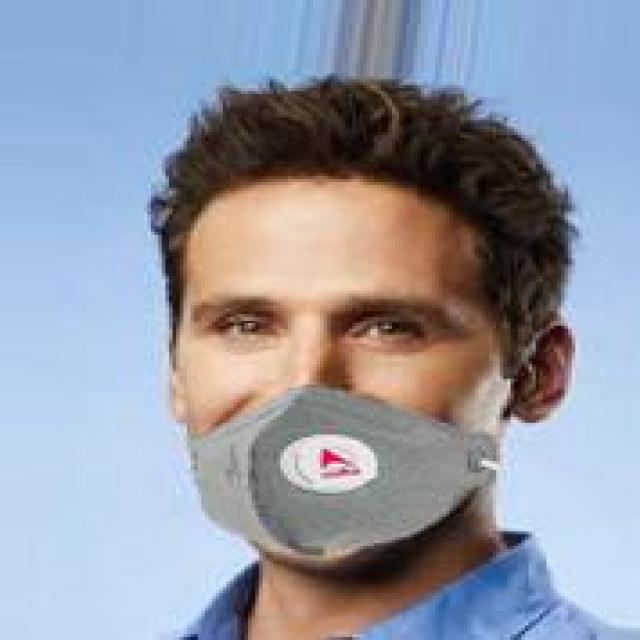mask: (115, 59, 593, 590)
